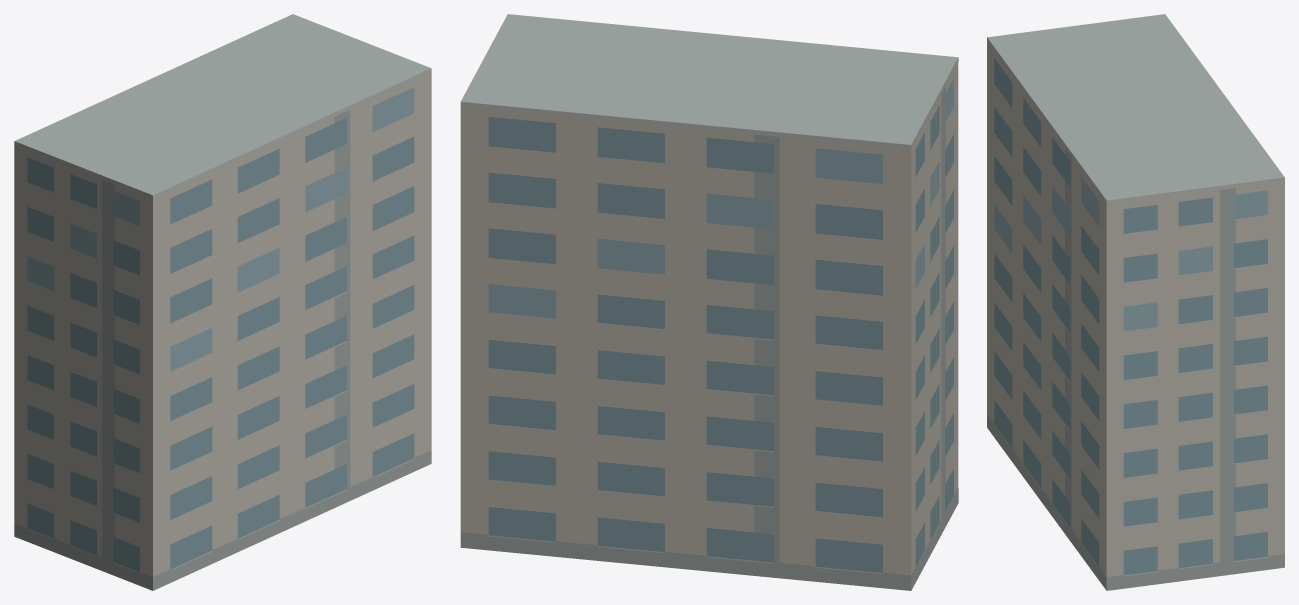
Rendered from residential-79281717-6ed2-46fb-b6b8-2591e2acddc1.glb.
3 views of the same model, side by side, from view 1: azimuth 30°, elevation 25°; view 2: azimuth 150°, elevation 25°; view 3: azimuth 270°, elevation 25° (orthographic). The views are drawn at different scales.
Visible parts, largest first — view 1: residential-79281717-6ed2-46fb-b6b8-2591e2acddc1.tmp; view 2: residential-79281717-6ed2-46fb-b6b8-2591e2acddc1.tmp; view 3: residential-79281717-6ed2-46fb-b6b8-2591e2acddc1.tmp.
Part boxes in pixels (<box>): residential-79281717-6ed2-46fb-b6b8-2591e2acddc1.tmp: <box>14,14,431,590</box>; residential-79281717-6ed2-46fb-b6b8-2591e2acddc1.tmp: <box>460,14,958,590</box>; residential-79281717-6ed2-46fb-b6b8-2591e2acddc1.tmp: <box>987,14,1284,590</box>.
Size of the model in its own units: 23.59 by 23 by 15.91.
